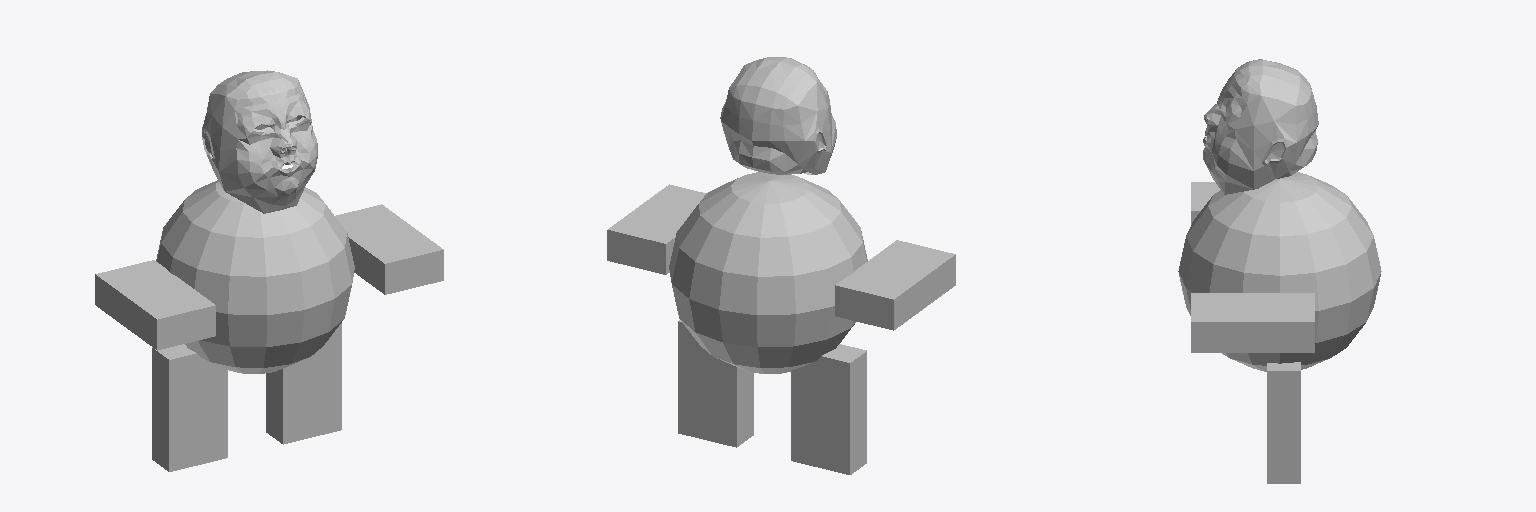
Rendered from character.obj.
3 renders of one model, left to right at view 1: azimuth 30°, elevation 25°; view 2: azimuth 150°, elevation 25°; view 3: azimuth 270°, elevation 25°, orthographic.
Visible parts, largest first — view 1: Plane; view 2: Plane; view 3: Plane.
Boxes of the visible parts, <box> form: Plane: <box>95,70,443,471</box>; Plane: <box>607,57,955,474</box>; Plane: <box>1178,59,1381,483</box>.
Size of the model in its own units: 9.74 by 12.26 by 5.98.